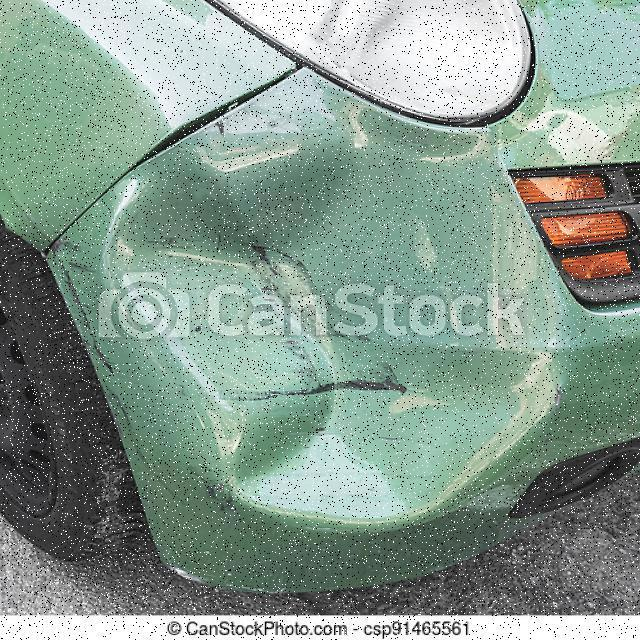hood: (61, 71, 639, 600)
